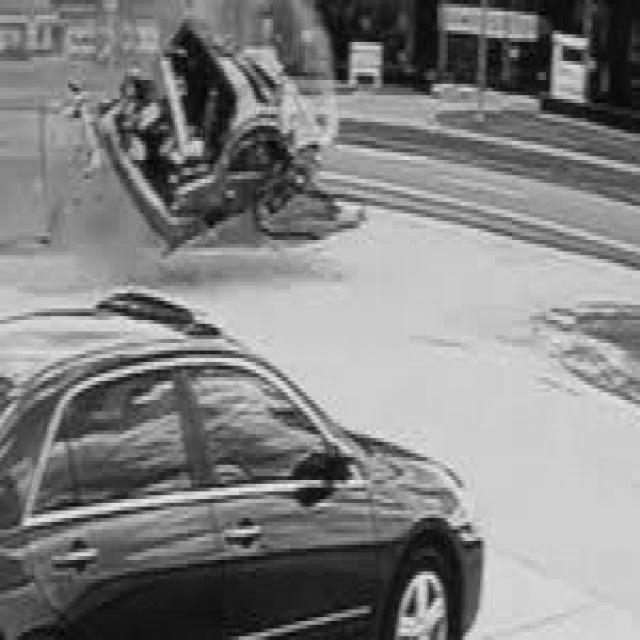accident: (88, 12, 334, 252)
vehicle: (1, 295, 487, 640)
